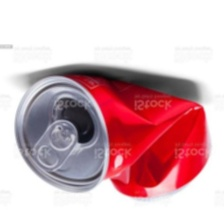can: (9, 67, 217, 204)
